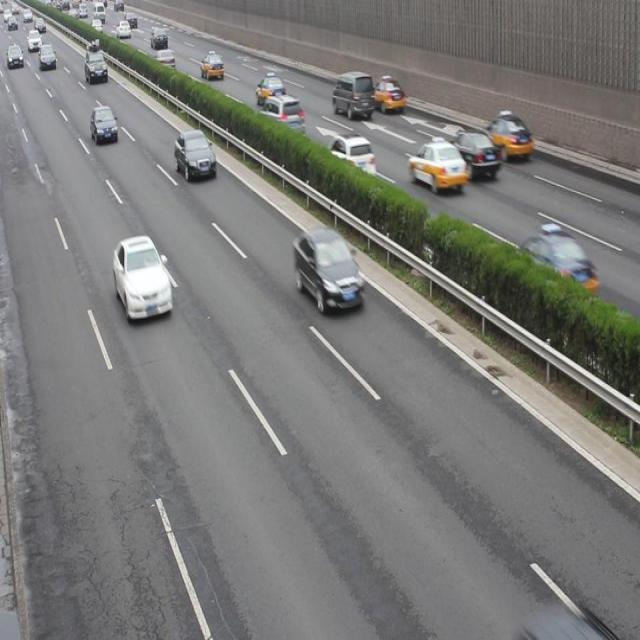car: (507, 230, 597, 300), (292, 225, 362, 313), (113, 235, 173, 322), (407, 139, 467, 194), (444, 128, 500, 180), (324, 132, 376, 182), (481, 115, 532, 160), (174, 129, 216, 182), (258, 94, 304, 140), (371, 76, 405, 114), (91, 104, 118, 145), (256, 74, 286, 106)
truck: (330, 70, 374, 120)
